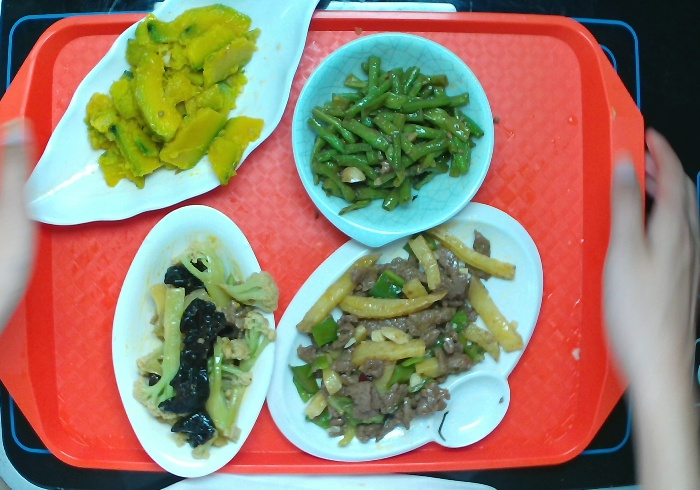RJxy-Bai_Se_Tuo_Yuan: (109, 203, 284, 482)
RJxy-Shu_Ye_Pan: (27, 2, 318, 228)
RJxy-Xiao_Jiao_Yuan_Wan: (290, 28, 500, 250)
RJxy-Zhan_Liao_Pan: (263, 193, 545, 460)
